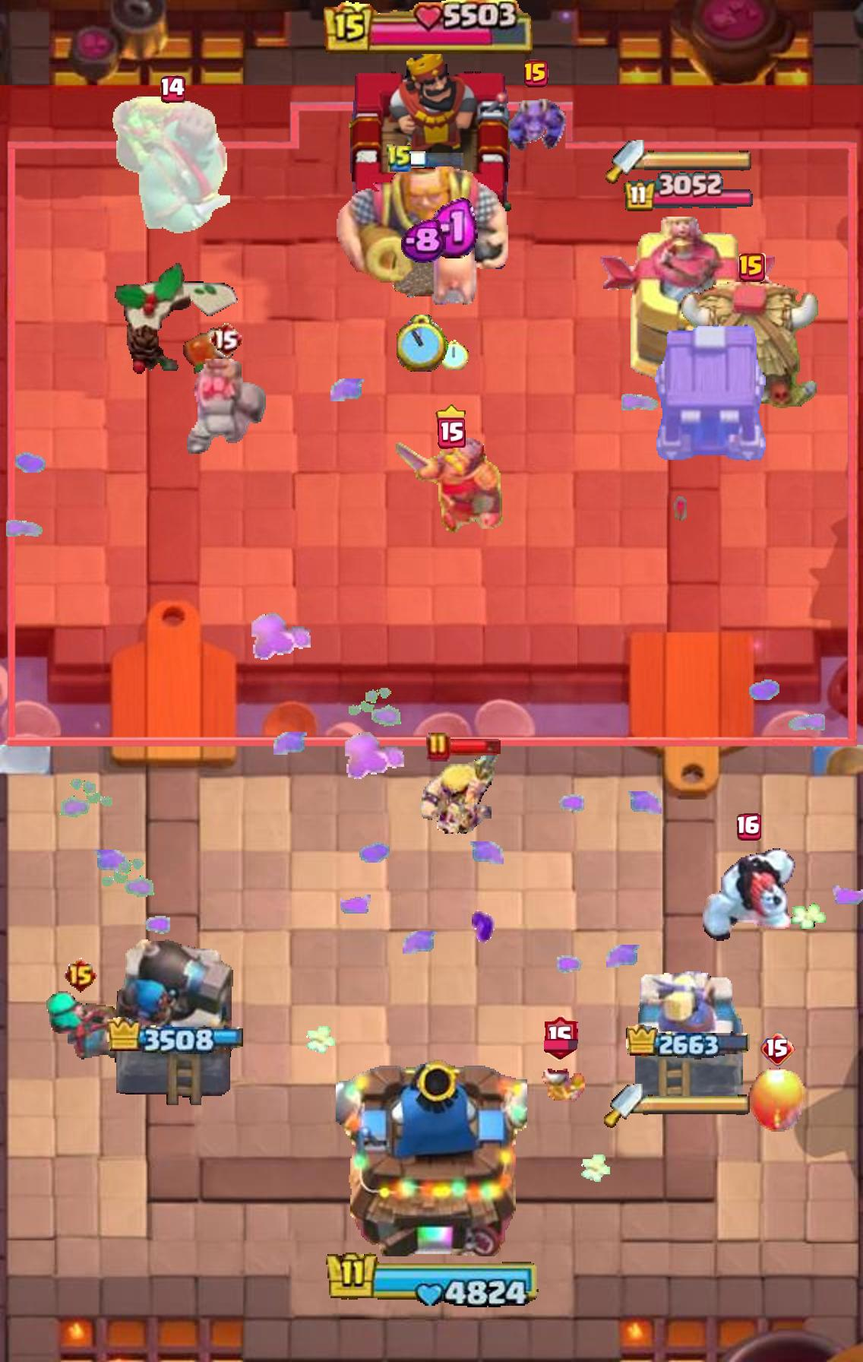elixir: (426, 198, 482, 260), (399, 219, 446, 265)
